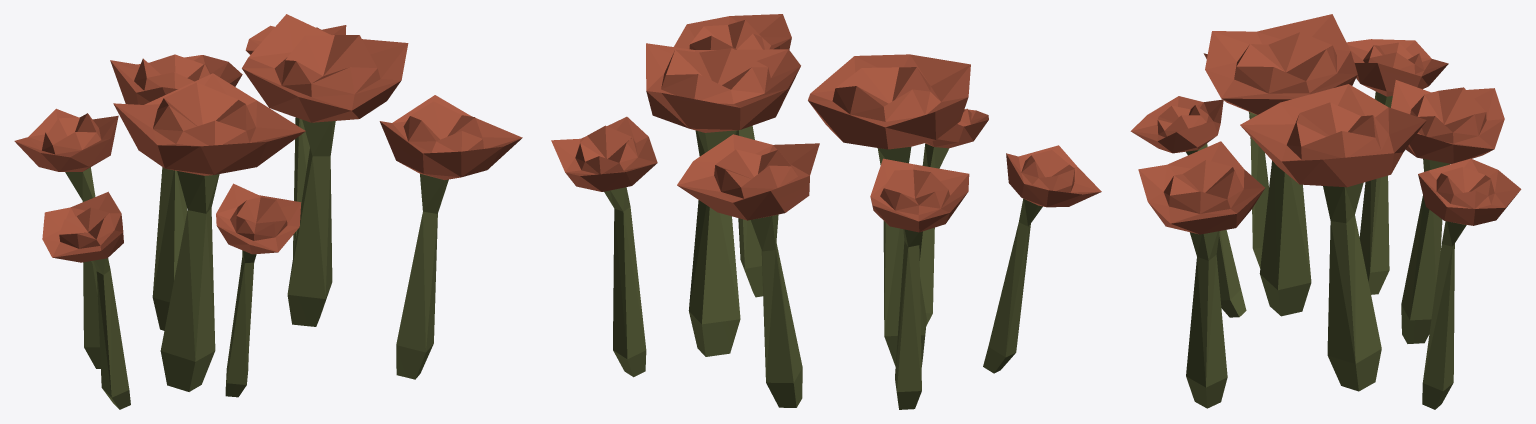
File: SM_Env_Flower_01.gltf
3 renders of one model, left to right at view 1: azimuth 30°, elevation 25°; view 2: azimuth 150°, elevation 25°; view 3: azimuth 270°, elevation 25°, orthographic. The views are drawn at different scales.
Parts seen in each view (by area): view 1: SM_Env_Flower_01; view 2: SM_Env_Flower_01; view 3: SM_Env_Flower_01.
Boxes of the visible parts, box(x1,y1,x2,y2) form: SM_Env_Flower_01: box(14, 14, 522, 409); SM_Env_Flower_01: box(551, 14, 1101, 409); SM_Env_Flower_01: box(1130, 14, 1521, 409).
Bounding box in the file's own units: 0.8195 × 0.5105 × 0.6426.
1 material, 1 textured.
